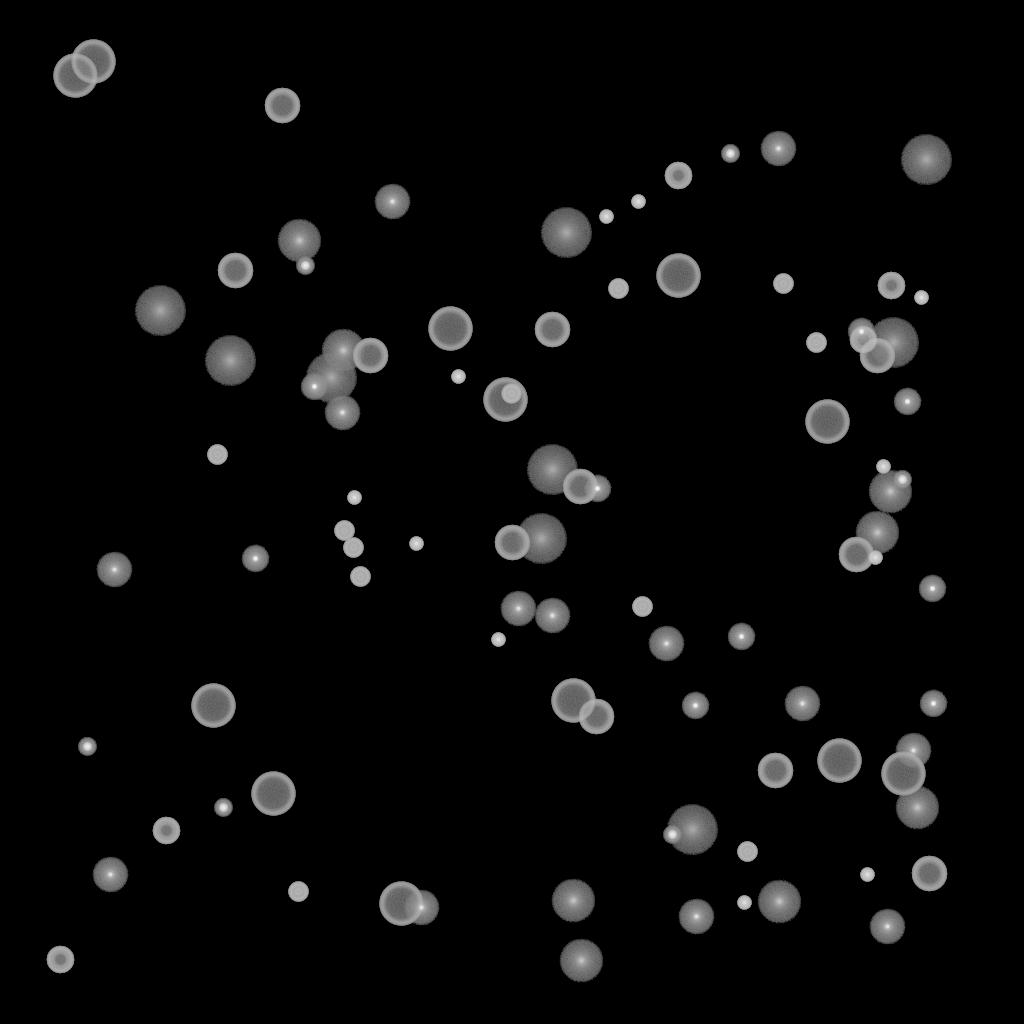depth:-10: (919, 690, 947, 718), (918, 575, 946, 603), (583, 475, 611, 503), (847, 318, 875, 346), (681, 692, 709, 720), (893, 388, 921, 416), (241, 545, 269, 573), (300, 373, 328, 401), (727, 623, 755, 651)
depth:-20: (893, 471, 911, 489), (78, 738, 96, 756), (214, 799, 232, 817), (296, 257, 314, 275), (663, 826, 681, 844), (721, 145, 739, 163)
depth:-30: (599, 210, 613, 224), (347, 491, 361, 505), (451, 370, 465, 384), (409, 537, 423, 551), (914, 291, 928, 305), (631, 195, 645, 209), (868, 551, 882, 565), (860, 868, 874, 882), (491, 633, 505, 647), (876, 460, 890, 474), (737, 896, 751, 910)
depth:-40: (737, 842, 757, 862), (207, 445, 227, 465), (773, 274, 793, 294), (288, 882, 308, 902), (608, 279, 628, 299), (806, 333, 826, 353), (350, 567, 370, 587), (334, 521, 354, 541), (632, 597, 652, 617), (501, 384, 521, 404), (343, 538, 363, 558)
depth:-50: (152, 817, 180, 845), (46, 946, 74, 974), (664, 162, 692, 190), (849, 326, 877, 354), (877, 272, 905, 300)
depth:-60: (838, 537, 874, 573), (757, 753, 793, 789), (911, 856, 947, 892), (217, 253, 253, 289), (494, 525, 530, 561), (859, 338, 895, 374), (578, 699, 614, 735), (352, 338, 388, 374), (534, 312, 570, 348), (264, 88, 300, 124), (562, 469, 598, 505)
depth:-70: (551, 679, 595, 723), (251, 772, 295, 816), (805, 400, 849, 444), (428, 307, 472, 351), (881, 752, 925, 796), (53, 54, 97, 98), (817, 739, 861, 783), (191, 684, 235, 728), (483, 378, 527, 422), (71, 40, 115, 84), (656, 254, 700, 298), (379, 882, 423, 926)
depth:0: (784, 686, 820, 722), (374, 184, 410, 220), (92, 857, 128, 893), (324, 395, 360, 431), (760, 131, 796, 167), (403, 890, 439, 926), (500, 591, 536, 627), (678, 899, 714, 935), (869, 909, 905, 945), (534, 598, 570, 634), (648, 626, 684, 662), (96, 552, 132, 588), (895, 733, 931, 769)
depth:10: (551, 879, 595, 923), (895, 786, 939, 830), (321, 329, 365, 373), (757, 880, 801, 924), (855, 511, 899, 555), (559, 939, 603, 983), (277, 219, 321, 263), (868, 470, 912, 514)
depth:20: (666, 805, 718, 855), (526, 445, 578, 495), (204, 336, 256, 386), (540, 208, 592, 258), (515, 514, 567, 564), (305, 353, 357, 403), (867, 318, 919, 368), (900, 135, 952, 185), (134, 286, 186, 336)
